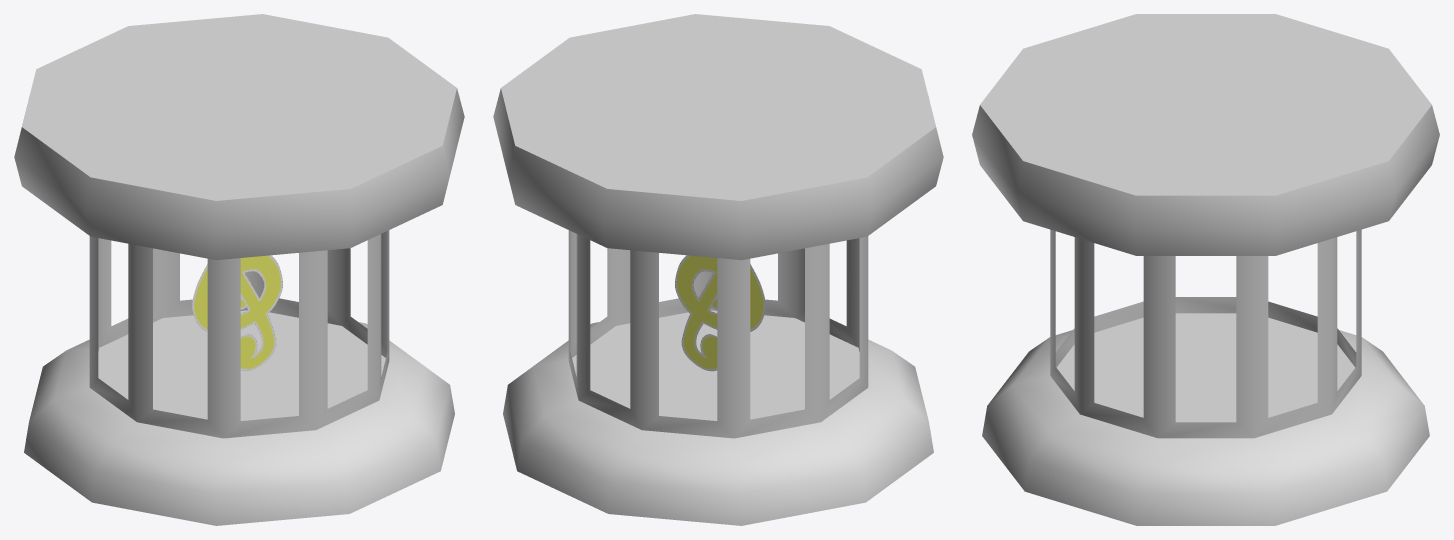
The model's file is Peddastoel.fbx.
3 renders of one model, left to right at view 1: azimuth 30°, elevation 25°; view 2: azimuth 150°, elevation 25°; view 3: azimuth 270°, elevation 25°, orthographic.
Parts seen in each view (by area): view 1: Peddastoel_LOD0, MusicinPed; view 2: Peddastoel_LOD0, MusicinPed; view 3: Peddastoel_LOD0.
Boxes of the visible parts, x1,y1,x2,y2 form: Peddastoel_LOD0: (14,14,464,525); MusicinPed: (192,255,282,371); Peddastoel_LOD0: (493,14,943,525); MusicinPed: (675,255,765,371); Peddastoel_LOD0: (972,14,1439,525).
Size of what is drawn, in the model's own units: 134 by 110 by 141.
